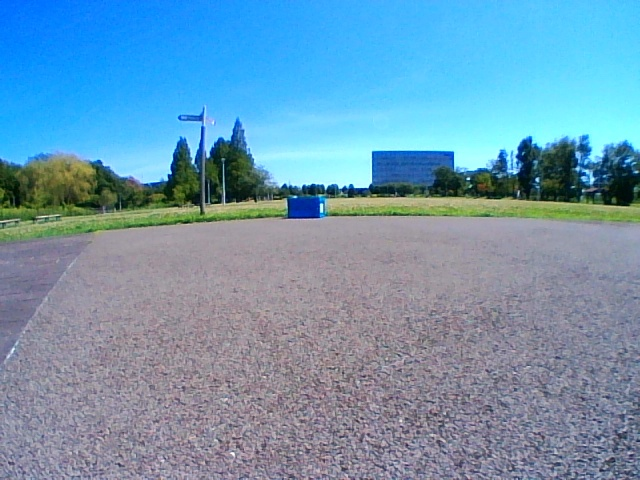blue_box: (289, 196, 324, 218)
tag: (320, 203, 324, 213)
